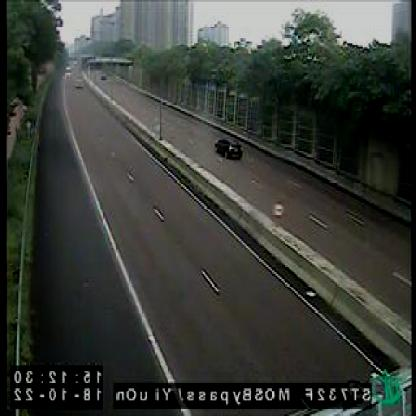Car: (213, 136, 243, 160)
